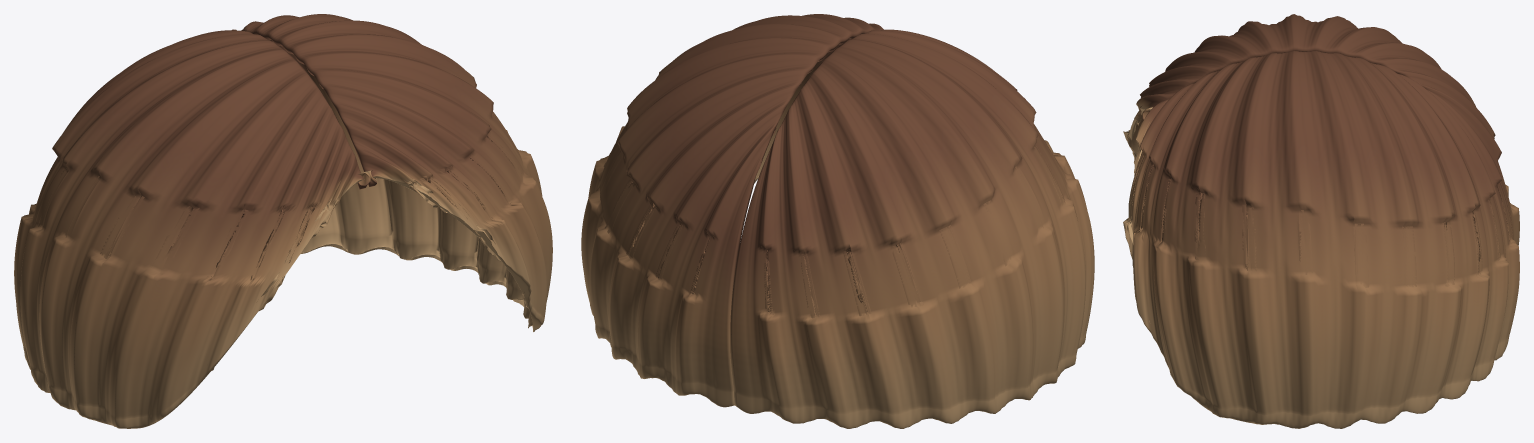
File: Ombre-d250cf447480253-hair.glb
The picture shows the model from 3 angles, left to right: view 1: azimuth 30°, elevation 25°; view 2: azimuth 150°, elevation 25°; view 3: azimuth 270°, elevation 25°; orthographic projection. The views are drawn at different scales.
Parts seen in each view (by area): view 1: 226 hair / Hair252 / flowing sculpt middle.001; view 2: 226 hair / Hair252 / flowing sculpt middle.001; view 3: 226 hair / Hair252 / flowing sculpt middle.001.
Boxes of the visible parts, x1,y1,x2,y2 form: 226 hair / Hair252 / flowing sculpt middle.001: [14, 14, 552, 428]; 226 hair / Hair252 / flowing sculpt middle.001: [581, 14, 1094, 428]; 226 hair / Hair252 / flowing sculpt middle.001: [1123, 14, 1519, 428].
Bounding box in the file's own units: 1.06 × 0.6587 × 0.8322.
Materials: 1 (1 with a texture image).
